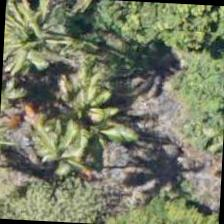Kelapa_Sawit: (22, 102, 118, 196), (2, 0, 74, 79)
